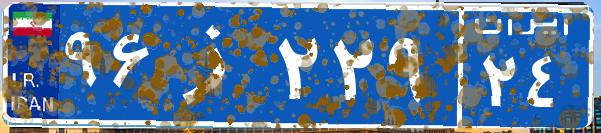2: (273, 28, 330, 110), (330, 28, 385, 110), (475, 38, 525, 113)
4: (525, 38, 570, 115)
6: (110, 28, 158, 105)
9: (385, 28, 445, 110), (57, 26, 110, 107)
ز: (158, 15, 273, 115)
